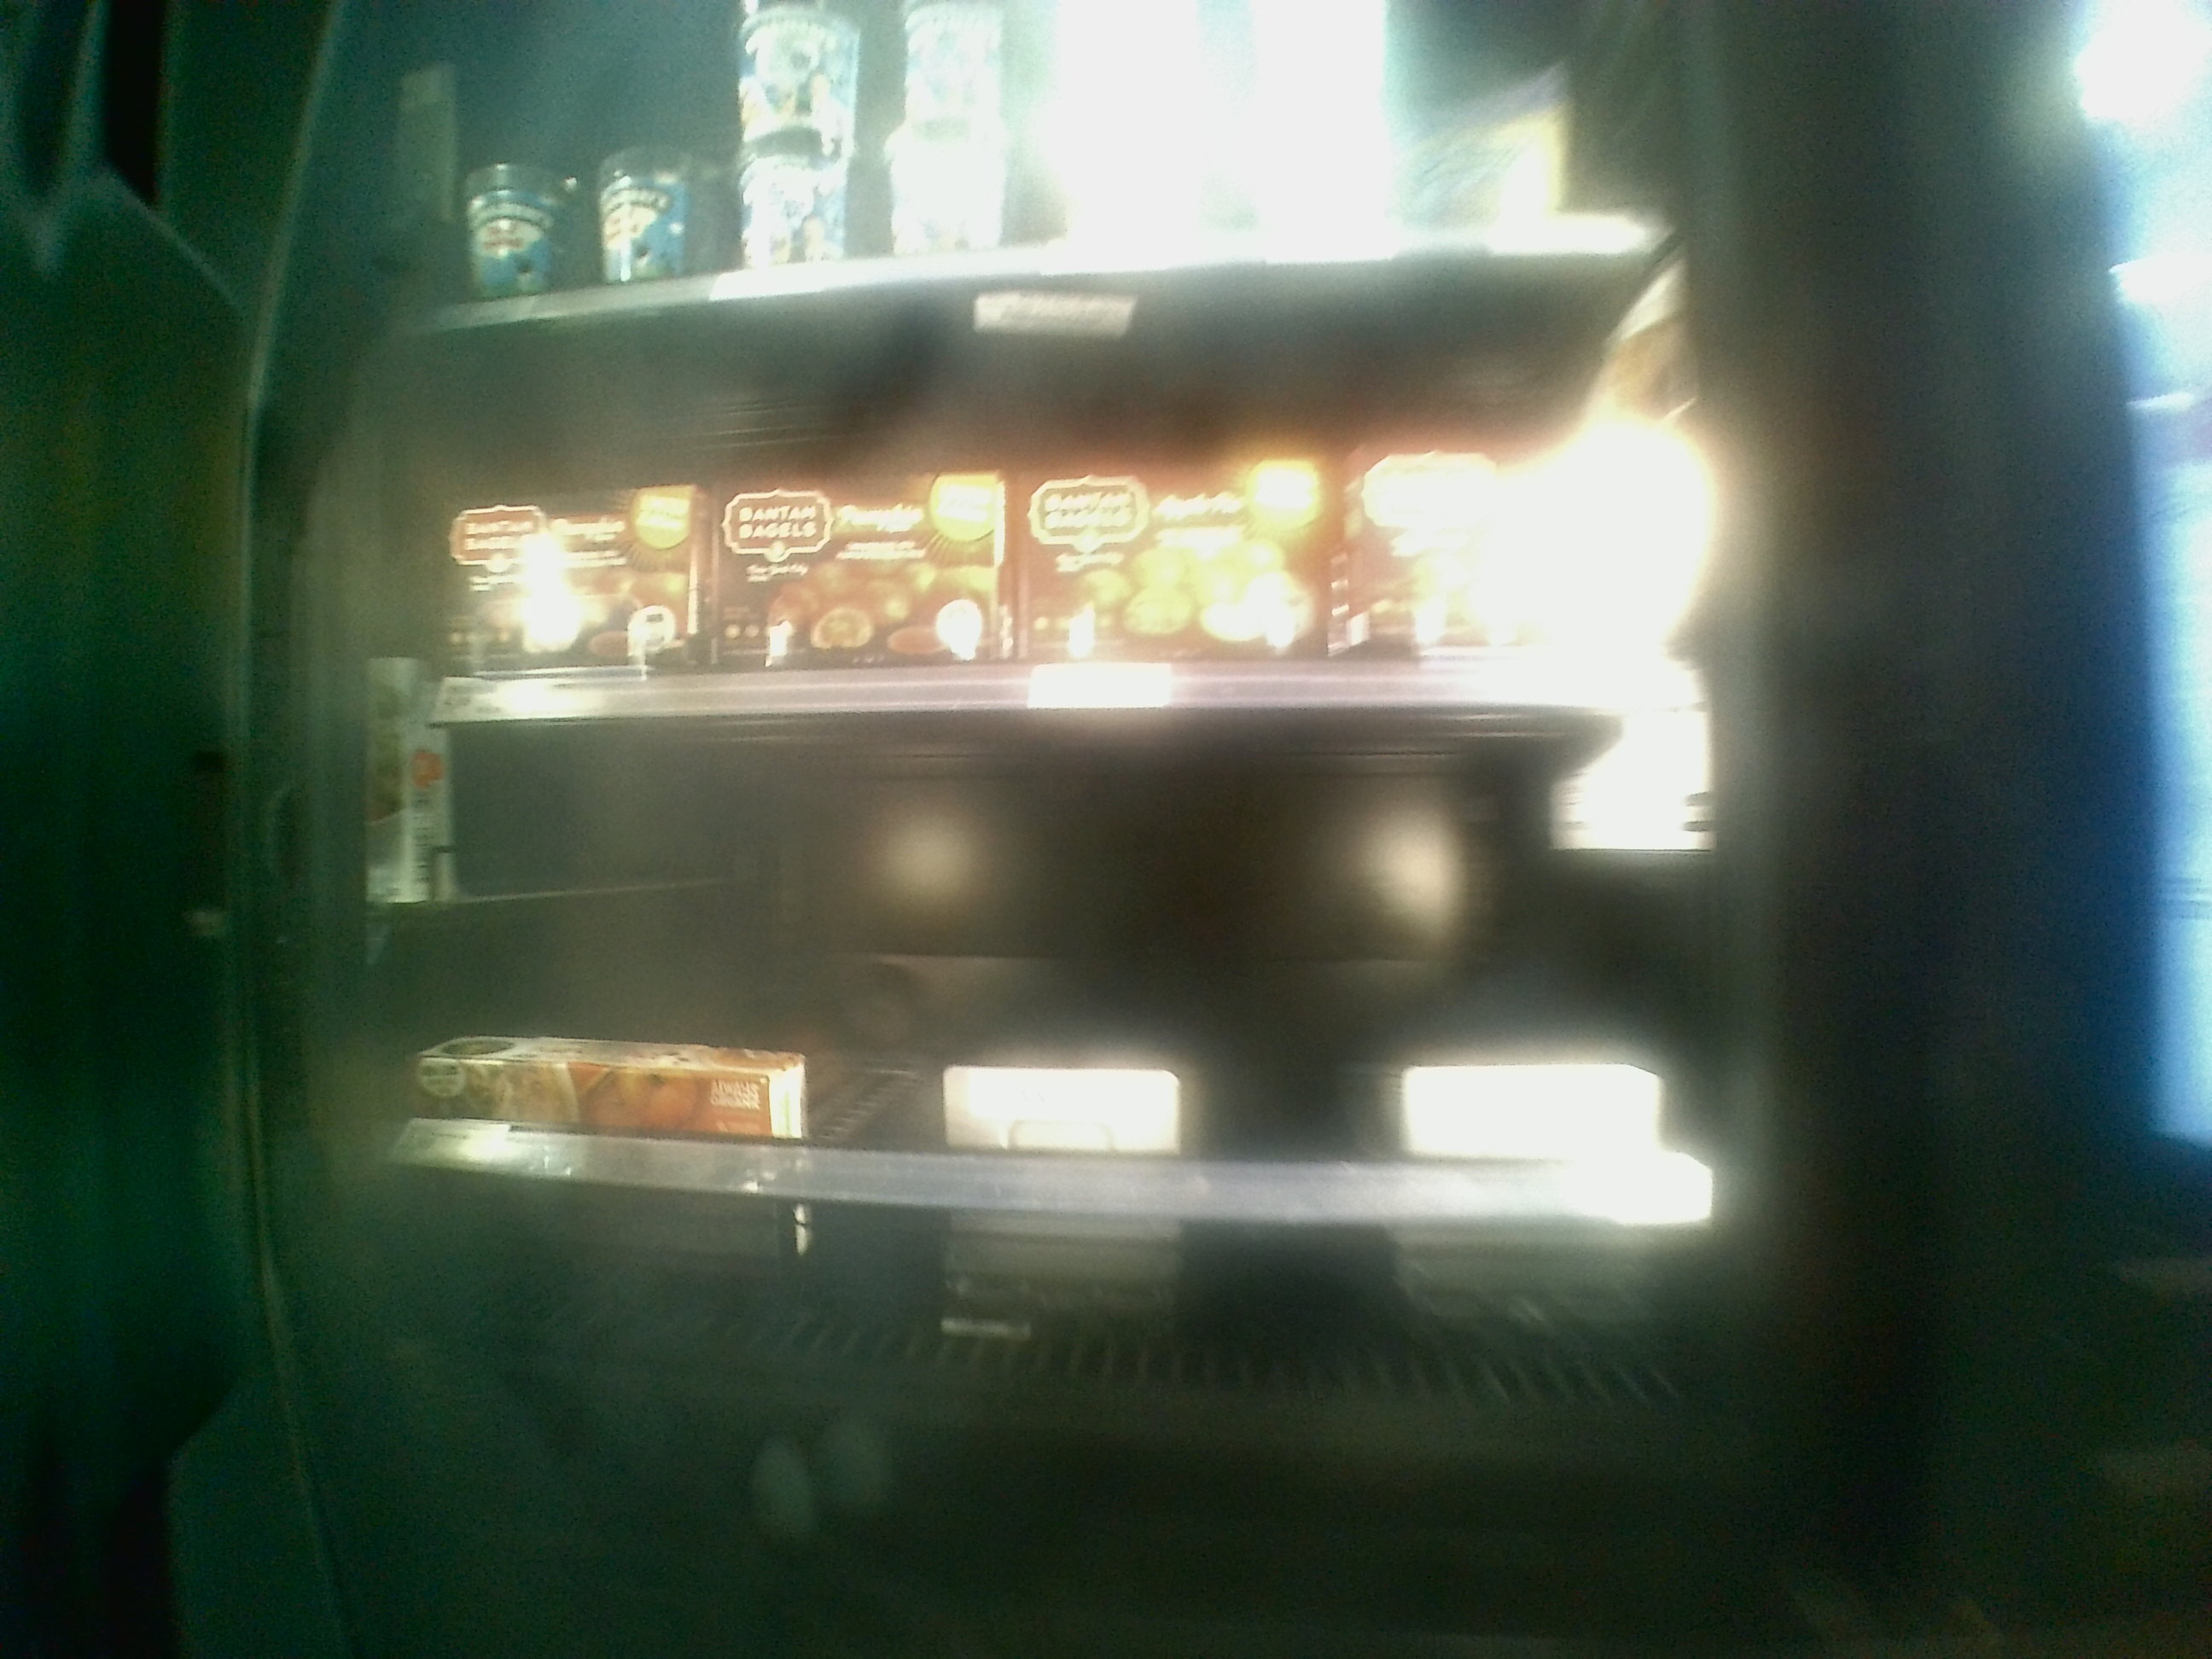shelf: (333, 735, 1757, 1471), (338, 329, 1684, 723)
